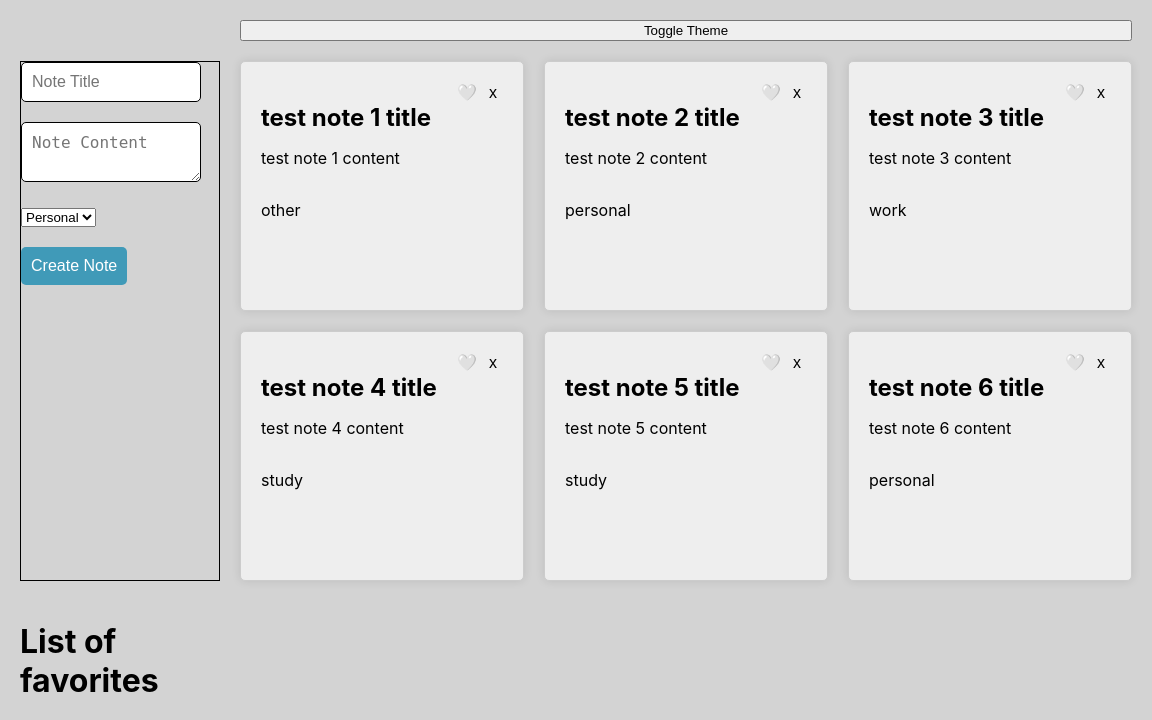
Scenario: test delete sticky note › delete sticky note
Expected: the heading "test note 1 title" is shown, [261,103,431,132]
Expected: the text box "test note 1 content" is shown, [261,148,400,168]
Click the 1st button "x": (493, 92) [483,82,503,103]
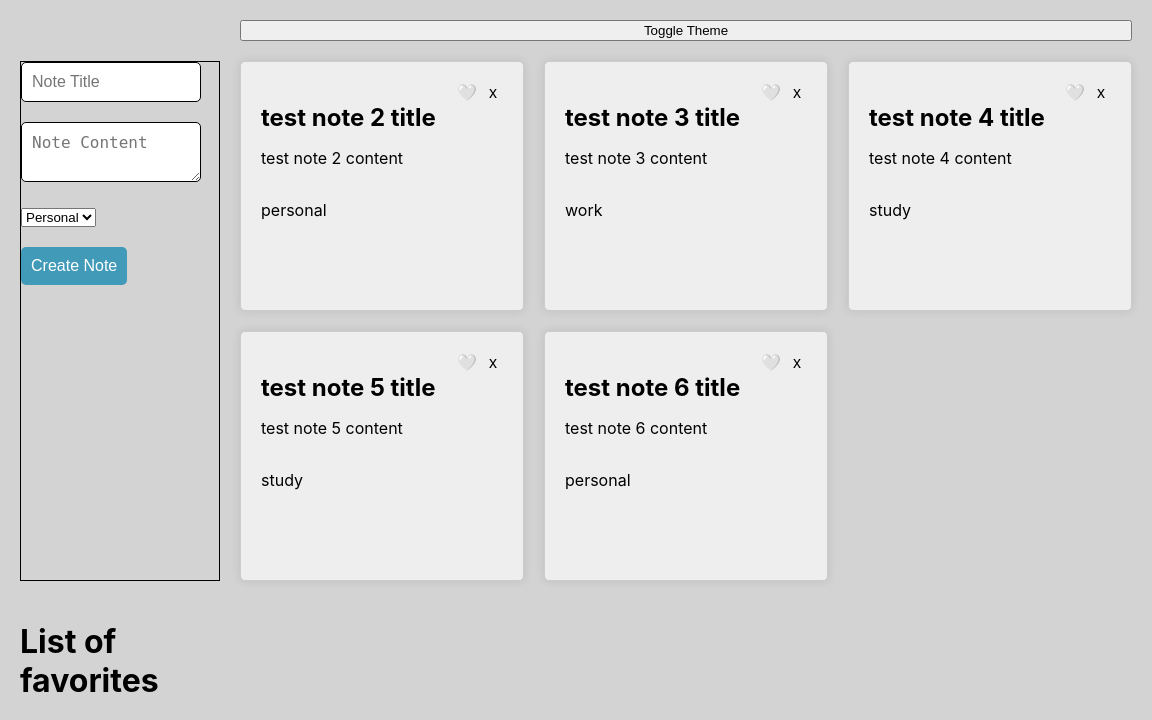
Now the heading "test note 1 title" is gone
Now the text box "test note 1 content" is gone
